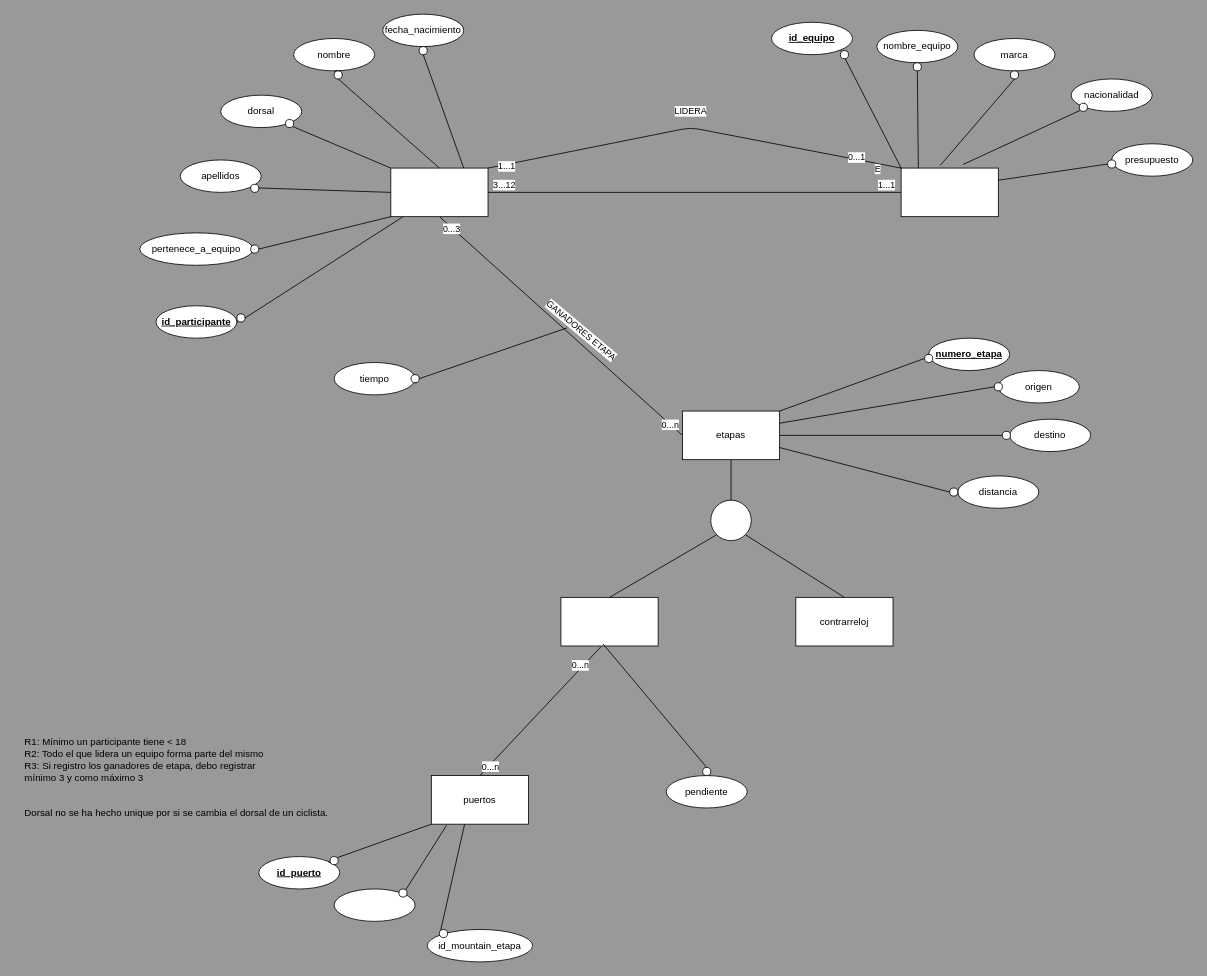
The diagram is 1207 pixels wide and 976 high, and some of its shapes have lost their labels. Here are the shapes that lost their labels. From the top down, the centre of each, then its label:
At (439,192): "Participantes".
At (949,192): "Equipo".
At (730,520): "T/D".
At (609,621): "mountain_etapa".
At (374,904): "nombre_puerto".
